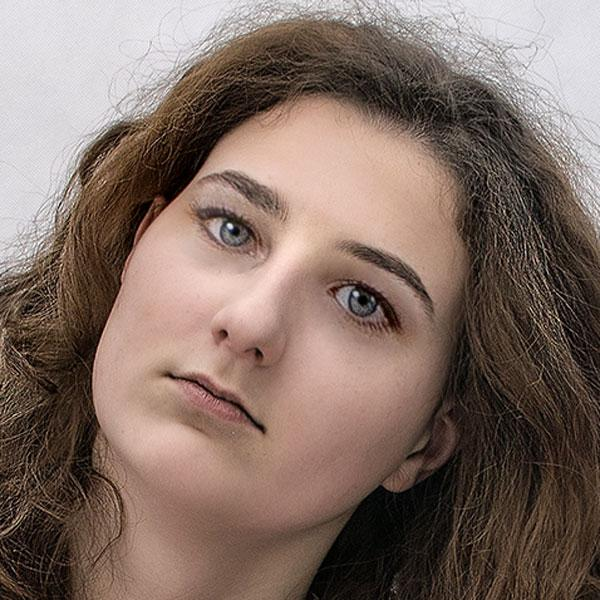Eyes: (320, 265, 413, 349), (181, 196, 265, 267)
